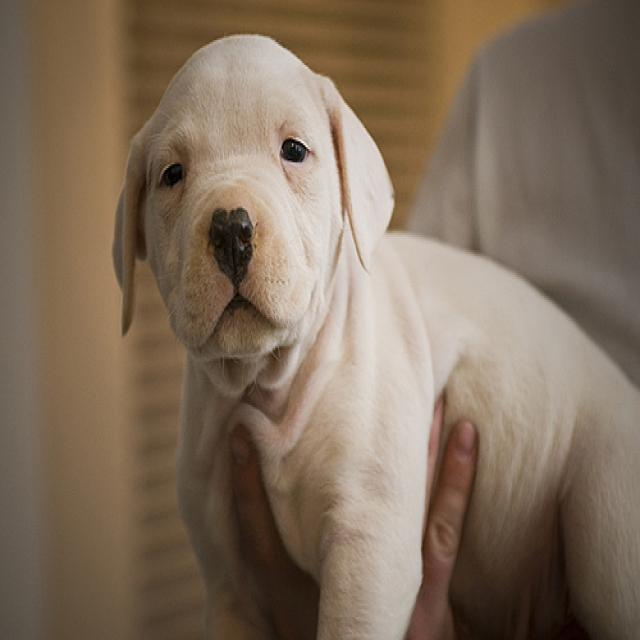dog-american_bulldog: (90, 23, 637, 636)
